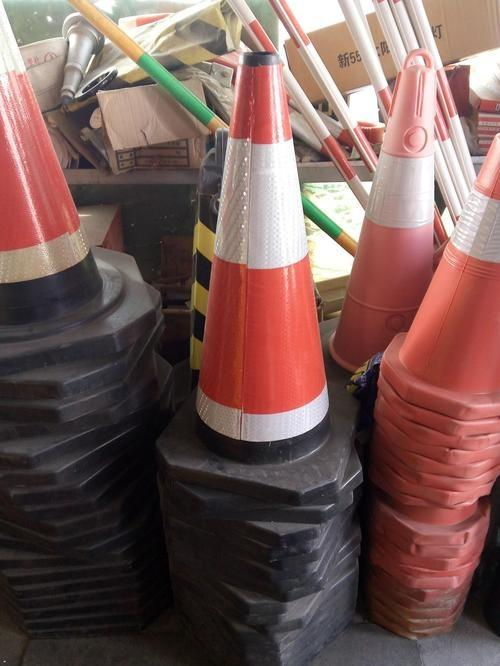cone_barrel: (183, 55, 332, 469), (330, 63, 455, 378), (390, 130, 499, 408)
